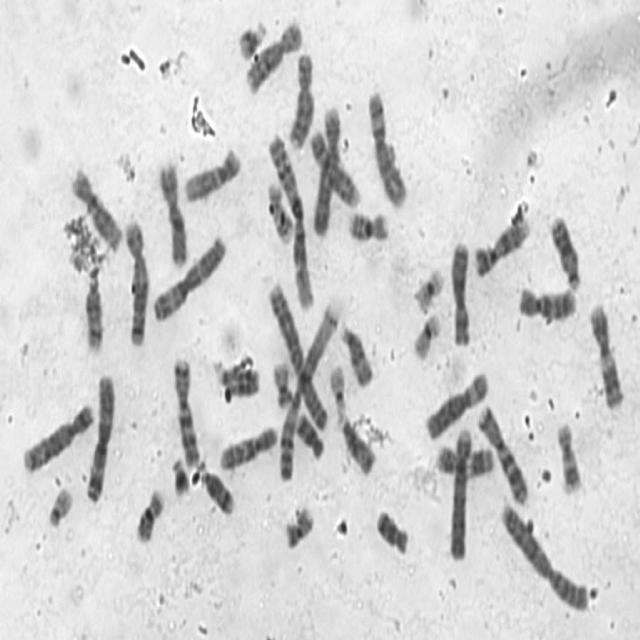A1: (274, 295, 342, 485), (263, 130, 315, 314)
A2: (496, 495, 591, 616), (266, 276, 333, 435)
A3: (152, 231, 228, 324), (82, 368, 116, 506)
B4: (309, 99, 343, 241), (446, 418, 474, 564)
B5: (20, 399, 95, 474), (122, 215, 152, 348)
C10: (216, 416, 281, 472), (516, 282, 580, 323)
C11: (586, 297, 625, 410), (433, 440, 495, 479)
C12: (66, 159, 125, 254), (180, 143, 243, 204)
C6: (365, 82, 410, 210), (422, 365, 491, 443)
C7: (474, 397, 532, 508), (169, 348, 201, 471)
C8: (242, 15, 303, 96), (285, 46, 316, 151)
C9: (308, 124, 362, 210), (471, 212, 532, 280)
D13: (546, 208, 583, 293), (212, 354, 261, 400)
D14: (195, 456, 237, 519), (82, 260, 106, 358)
D15: (337, 411, 377, 479), (336, 317, 374, 388)
E16: (131, 481, 167, 547), (344, 205, 390, 243)
E17: (553, 415, 584, 496), (263, 174, 295, 246)
E18: (372, 501, 411, 556), (292, 406, 326, 461)
F19: (409, 306, 444, 362), (411, 262, 446, 314)
F20: (281, 502, 316, 552), (270, 358, 294, 410)
G21: (234, 12, 268, 62), (168, 452, 192, 500)
G22: (44, 481, 74, 530), (327, 361, 348, 416)
X: (156, 157, 190, 269), (448, 236, 472, 348)
